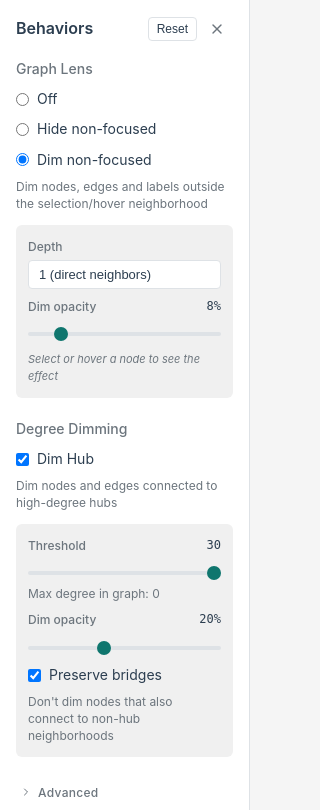
Test: BehaviorPanel › load graph on open › checkbox reflects the current store value
Click the text "Advanced": click(68, 792) [38,783,99,802]
(page scrolled)
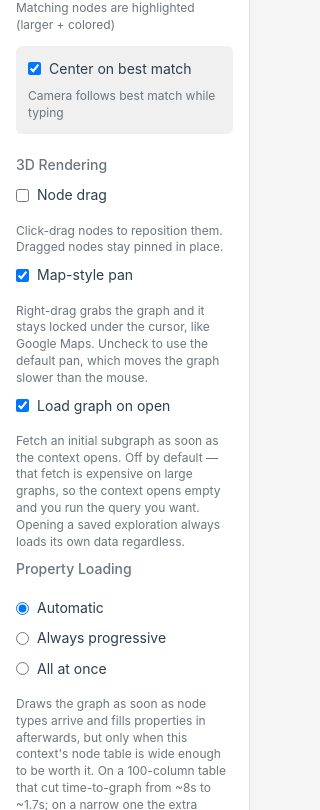
Expected: the checkbox with test id "auto-load-on-open-checkbox" is checked, [16,399,29,412]
